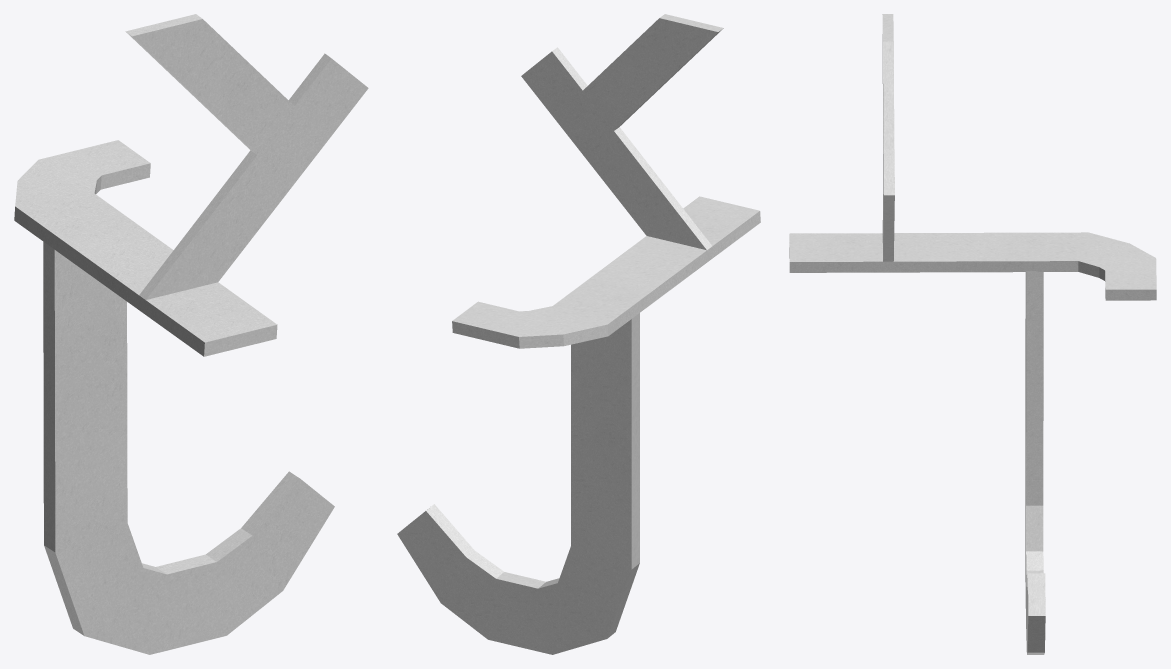
The model's file is Les_donnees.gltf.
3 views of the same model, side by side, from view 1: azimuth 30°, elevation 25°; view 2: azimuth 150°, elevation 25°; view 3: azimuth 270°, elevation 25° (orthographic). The views are drawn at different scales.
Visible parts, largest first — view 1: Les_Données; view 2: Les_Données; view 3: Les_Données.
Part boxes in pixels (box(x1,y1,x2,y2)): Les_Données: box(14, 14, 368, 654); Les_Données: box(397, 14, 760, 654); Les_Données: box(789, 14, 1156, 654).
Size of the model in its own units: 28.99 by 66.95 by 39.2.
Materials: 1 (1 with a texture image).
